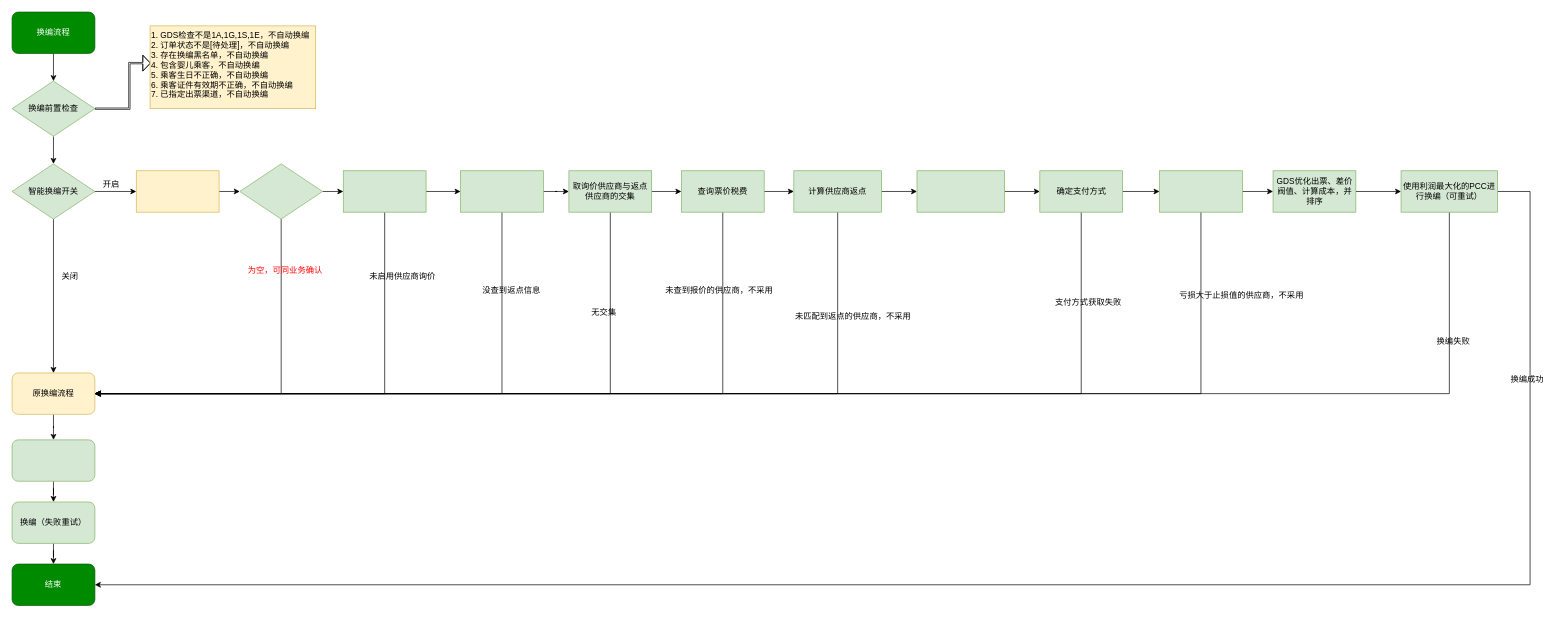
This 1563x618 diagram has some shape labels left out. Here are the shapes that lost their labels. From the top down, the centre of each, then its label:
At pixel 177 191: "智能换编流程".
At pixel 281 191: "确定主销售航司".
At pixel 384 191: "查询需询价的供应商".
At pixel 501 191: "查询供应商返点信息".
At pixel 960 191: "获取航段奖励".
At pixel 1200 191: "利润止损校验".
At pixel 53 460: "匹配‘创建编码配置’ 白名单".
